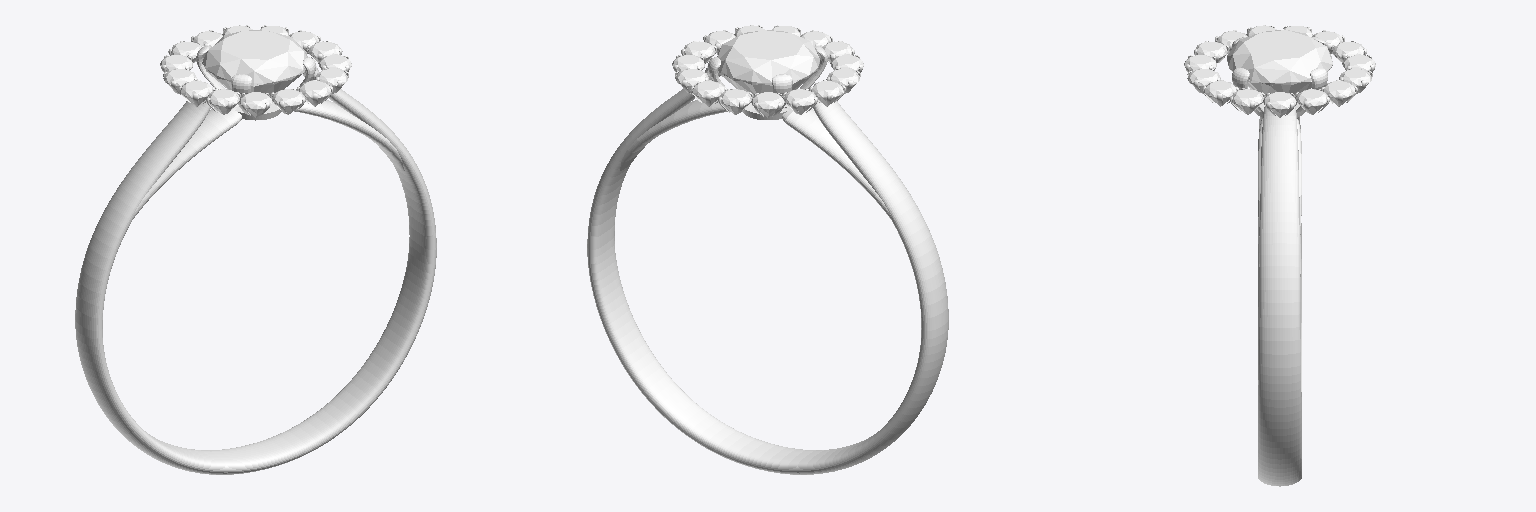
Rendered from DiamondRingFor3JS.obj.
The picture shows the model from 3 angles: view 1: azimuth 30°, elevation 25°; view 2: azimuth 150°, elevation 25°; view 3: azimuth 270°, elevation 25°; orthographic projection.
Parts seen in each view (by area): view 1: Shank_BezierCurve.003, Diamond_Smalls_Cube.004, Diamond_Main_Cube.002, Shank_Bridge_BezierCurve; view 2: Shank_BezierCurve.003, Diamond_Smalls_Cube.004, Diamond_Main_Cube.002, Shank_Bridge_BezierCurve; view 3: Shank_BezierCurve.003, Diamond_Smalls_Cube.004, Diamond_Main_Cube.002, Shank_Bridge_BezierCurve.
Boxes of the visible parts, x1,y1,x2,y2 form: Shank_BezierCurve.003: [75, 66, 436, 474]; Diamond_Smalls_Cube.004: [160, 25, 351, 117]; Diamond_Main_Cube.002: [202, 30, 307, 97]; Shank_Bridge_BezierCurve: [133, 100, 404, 218]; Shank_BezierCurve.003: [587, 66, 948, 474]; Diamond_Smalls_Cube.004: [672, 25, 863, 117]; Diamond_Main_Cube.002: [717, 30, 819, 98]; Shank_Bridge_BezierCurve: [620, 100, 890, 218]; Shank_BezierCurve.003: [1258, 106, 1301, 486]; Diamond_Smalls_Cube.004: [1184, 25, 1375, 117]; Diamond_Main_Cube.002: [1227, 30, 1332, 98]; Shank_Bridge_BezierCurve: [1258, 119, 1301, 236].
Size of the model in its own units: 7.5 by 8.6 by 3.55.